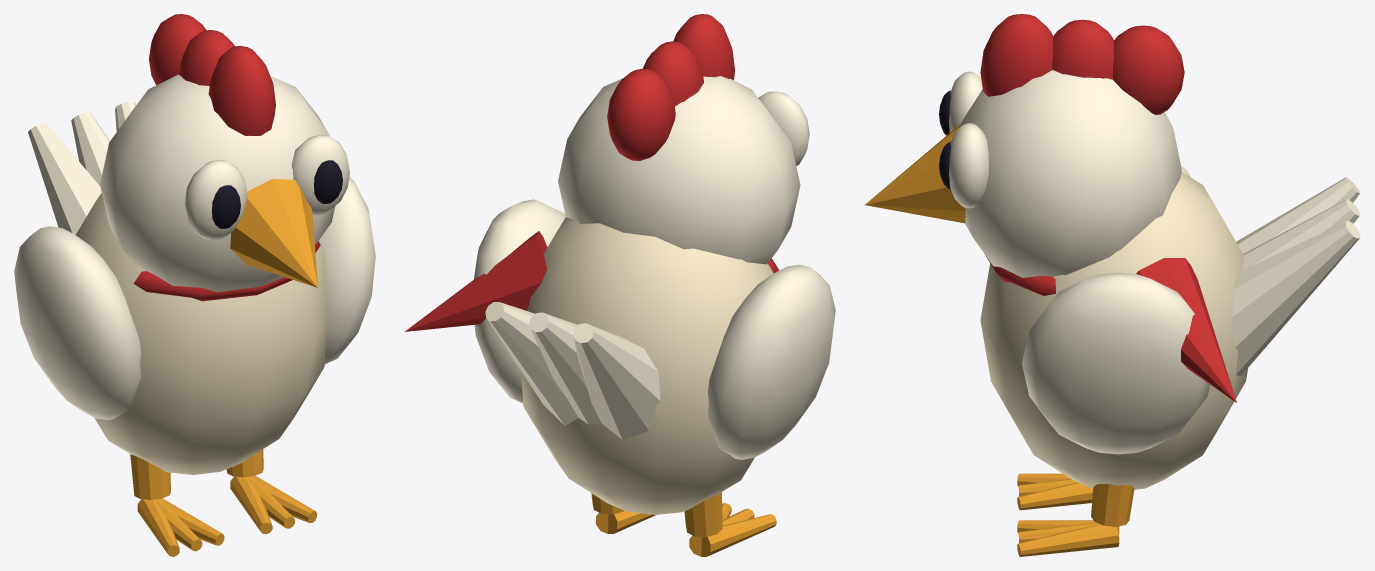
Rendered from chicken.glb.
The picture shows the model from 3 angles, left to right: view 1: azimuth 30°, elevation 25°; view 2: azimuth 150°, elevation 25°; view 3: azimuth 270°, elevation 25°; orthographic projection. The views are drawn at different scales.
Parts seen in each view (by area): view 1: chicken.001; view 2: chicken.001; view 3: chicken.001.
Boxes of the visible parts, <box> form: chicken.001: <box>14,14,375,556</box>; chicken.001: <box>404,14,835,556</box>; chicken.001: <box>865,14,1360,556</box>.
Bounding box in the file's own units: 1.52 × 2.03 × 1.8.
